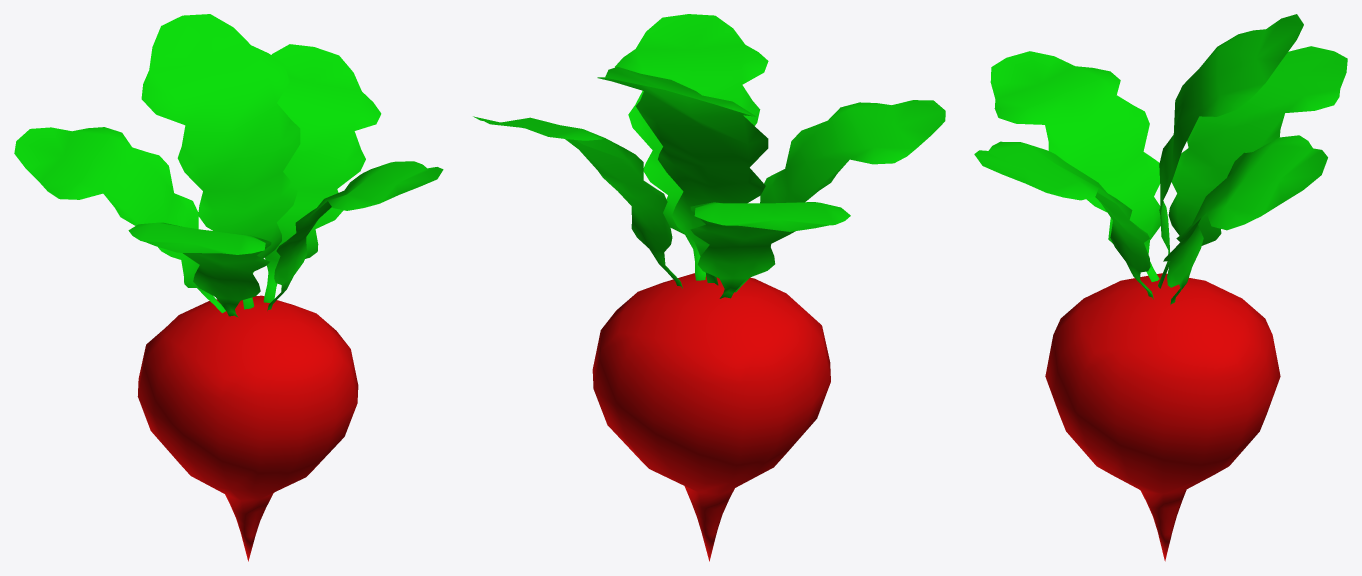
The model's file is Turnip_Product.fbx.
3 views of the same model, side by side, from view 1: azimuth 30°, elevation 25°; view 2: azimuth 150°, elevation 25°; view 3: azimuth 270°, elevation 25° (orthographic). The views are drawn at different scales.
Visible parts, largest first — view 1: BSTC_Turnip_Product; view 2: BSTC_Turnip_Product; view 3: BSTC_Turnip_Product.
Boxes of the visible parts, x1,y1,x2,y2 form: BSTC_Turnip_Product: [14, 14, 443, 561]; BSTC_Turnip_Product: [473, 14, 945, 561]; BSTC_Turnip_Product: [974, 14, 1347, 561].
Size of the model in its own units: 33.35 by 48.44 by 30.57.
